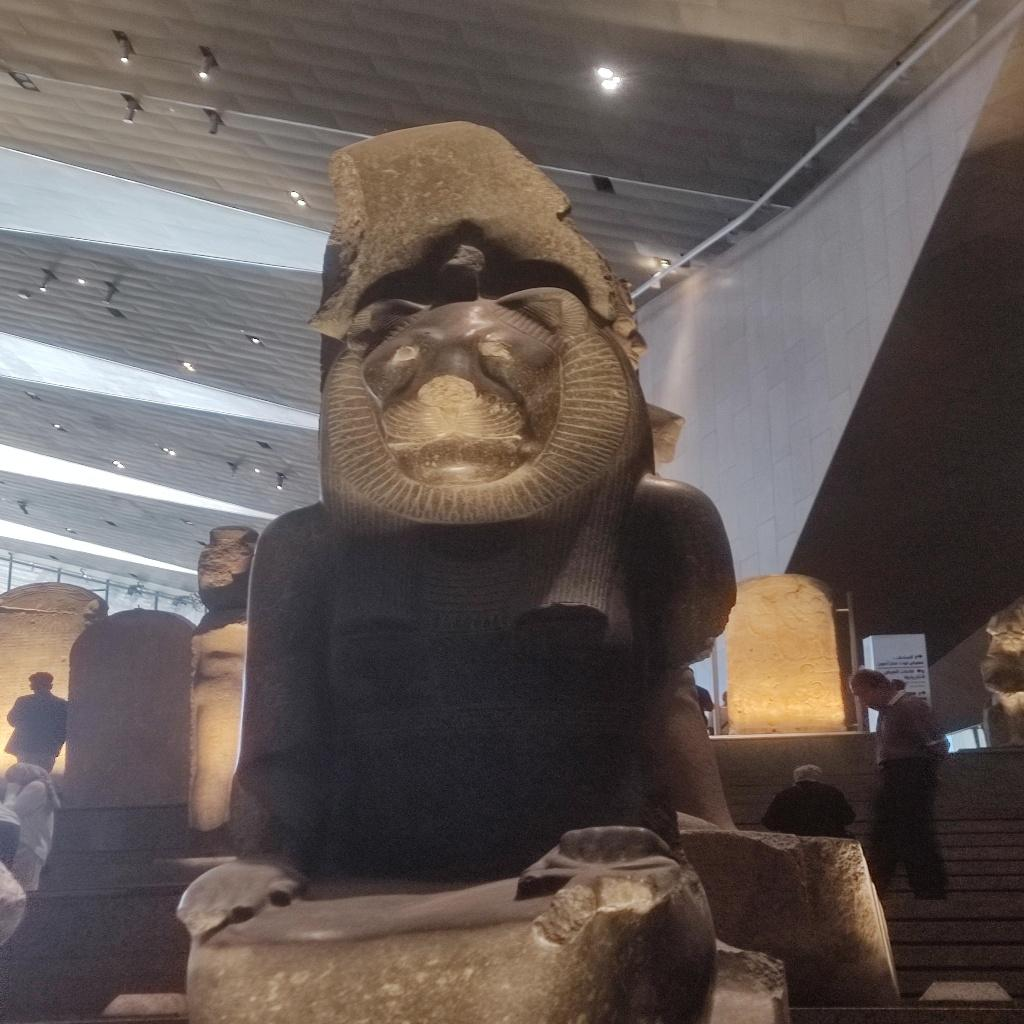Seated Statue of God Sekhmet: (158, 116, 744, 1024)
